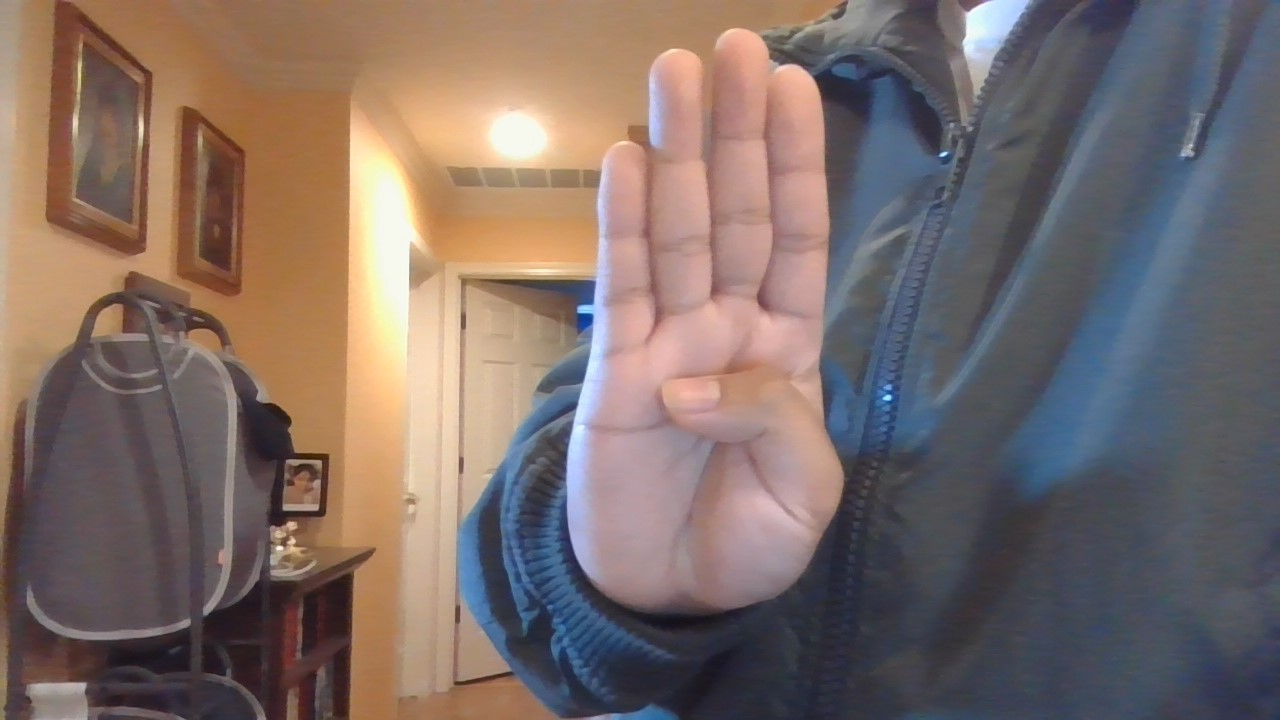b: (553, 14, 865, 635)
